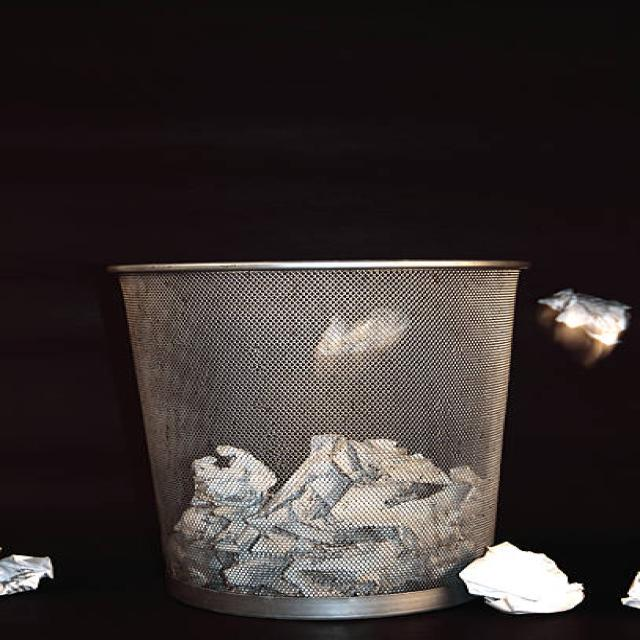electronic: (170, 433, 484, 598), (458, 541, 585, 615), (534, 288, 630, 367), (313, 307, 410, 358), (0, 552, 53, 596), (620, 571, 638, 610)
